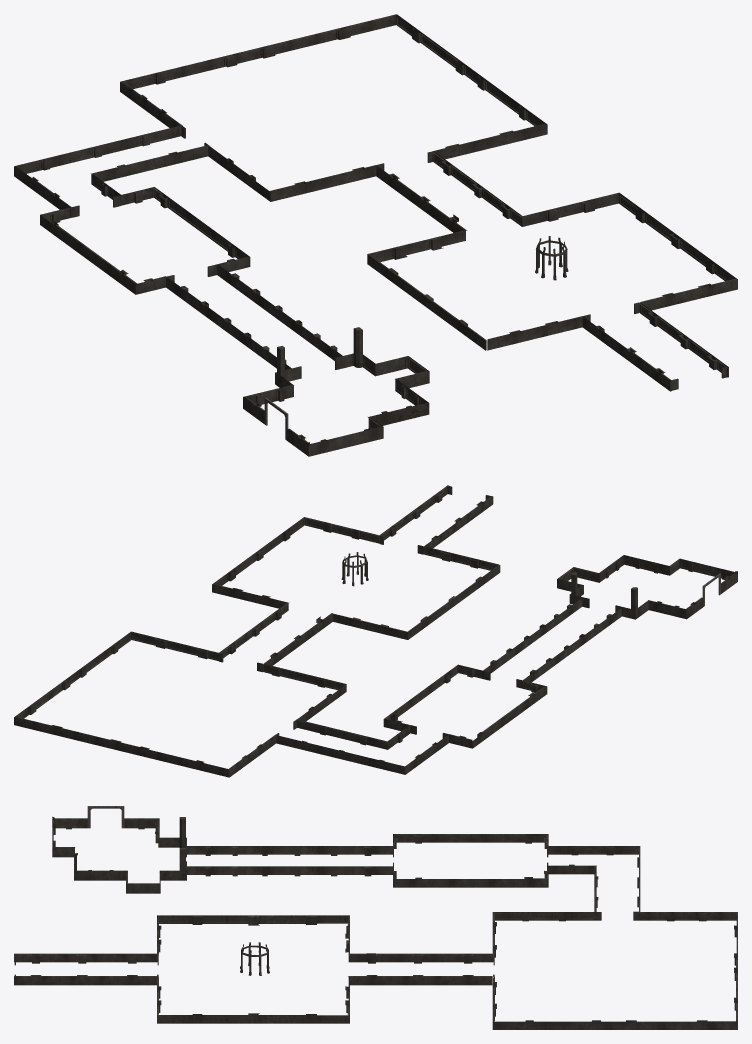
Rendered from pared_Abajo.obj.
3 views of the same model, one above another, from view 1: azimuth 30°, elevation 25°; view 2: azimuth 150°, elevation 25°; view 3: azimuth 270°, elevation 25° (orthographic). The views are drawn at different scales.
Visible parts, largest first — view 1: Cube.260, Cube.239, Cube.258, Cube.034, Cube.137, Cube.211, Cube.268, Cube.243, Cube.256, Cube.251, Cube.223, Cube.270 (+13 smaller); view 2: Cube.260, Cube.239, Cube.258, Cube.034, Cube.211, Cube.137, Cube.268, Cube.243, Cube.256, Cube.223, Cube.251, Cube.262 (+12 smaller); view 3: Cube.258, Cube.034, Cube.211, Cube.268, Cube.137, Cube.262, Cube.264, Cube.280, Cube.229, Cube.282, Cube.223, Cube.247 (+7 smaller).
Part boxes in pixels (box(x1,y1,x2,y2)): Cube.260: box(121, 14, 396, 89); Cube.239: box(14, 126, 181, 173); Cube.258: box(396, 14, 546, 126); Cube.034: box(217, 264, 342, 360); Cube.137: box(367, 254, 486, 350); Cube.211: box(166, 277, 291, 369); Cube.268: box(618, 193, 737, 281); Cube.243: box(90, 145, 208, 181); Cube.256: box(433, 124, 547, 161); Cube.251: box(269, 165, 377, 201); Cube.223: box(40, 215, 136, 294); Cube.270: box(487, 316, 582, 350); Cube.260: box(14, 717, 229, 777); Cube.239: box(276, 735, 405, 774); Cube.258: box(14, 632, 131, 718); Cube.034: box(483, 598, 582, 673); Cube.211: box(522, 608, 621, 682); Cube.137: box(408, 565, 500, 639); Cube.268: box(212, 517, 304, 585); Cube.243: box(296, 719, 387, 749); Cube.256: box(131, 631, 219, 661); Cube.223: box(472, 686, 547, 748); Cube.251: box(263, 664, 346, 691); Cube.262: box(264, 613, 332, 665); Cube.258: box(492, 1020, 737, 1029); Cube.034: box(187, 866, 392, 876); Cube.211: box(187, 846, 392, 855); Cube.268: box(157, 1013, 349, 1023); Cube.137: box(157, 915, 349, 925); Cube.262: box(348, 953, 492, 963); Cube.264: box(348, 975, 492, 985); Cube.280: box(14, 975, 156, 985); Cube.229: box(393, 877, 548, 887); Cube.282: box(14, 953, 156, 963); Cube.223: box(393, 834, 548, 843); Cube.247: box(495, 912, 595, 921).
Bounding box in the file's own units: 156 × 11 × 237.
